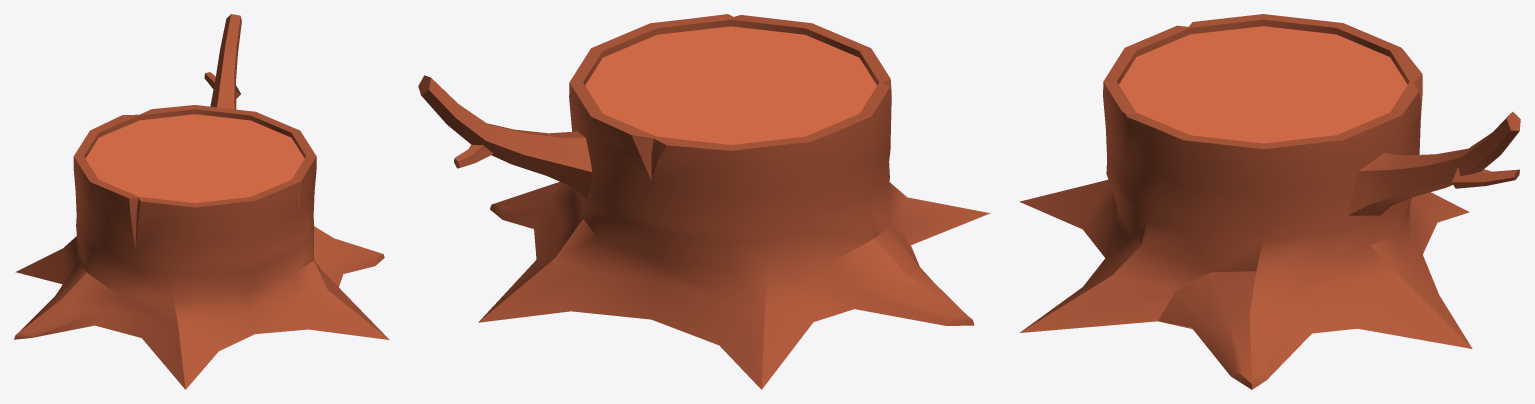
Rendered from trunk2.fbx.
3 views of the same model, side by side, from view 1: azimuth 30°, elevation 25°; view 2: azimuth 150°, elevation 25°; view 3: azimuth 270°, elevation 25° (orthographic). The views are drawn at different scales.
Visible parts, largest first — view 1: trunk2; view 2: trunk2; view 3: trunk2.
Part boxes in pixels (bbox=[...]): trunk2: bbox=[14, 14, 389, 389]; trunk2: bbox=[418, 14, 990, 389]; trunk2: bbox=[1019, 14, 1520, 389].
Size of the model in its own units: 401 by 199 by 360.
